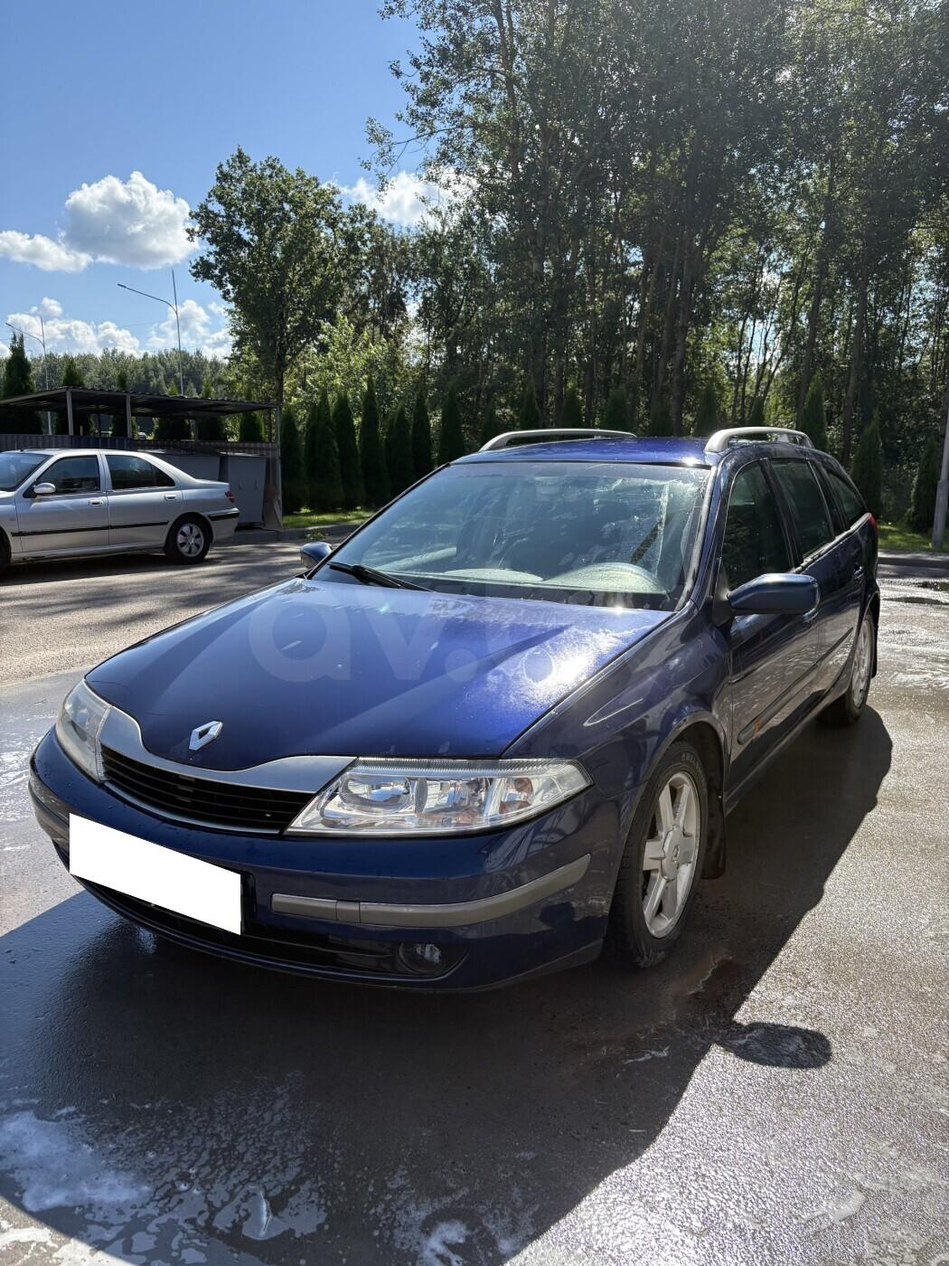Laguna_2001-2005: (28, 432, 879, 988)
